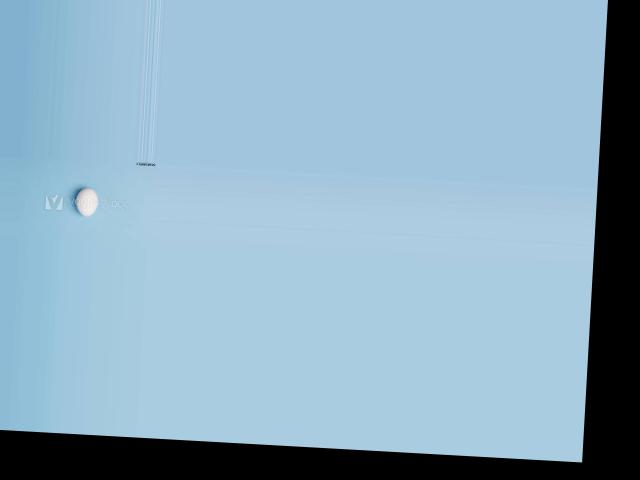egg: (75, 187, 98, 215)
